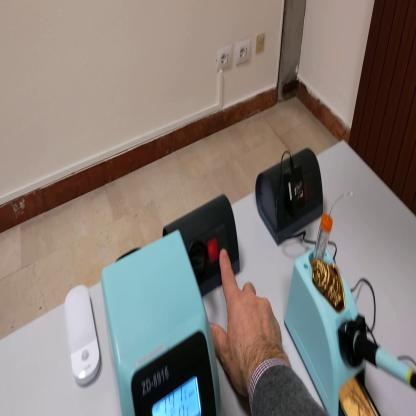hand: (212, 249, 288, 394)
socket: (164, 191, 242, 295), (255, 142, 325, 246)
welder base: (289, 210, 377, 414)
welder probe tip: (358, 333, 416, 391)
welder station: (102, 229, 223, 416)
